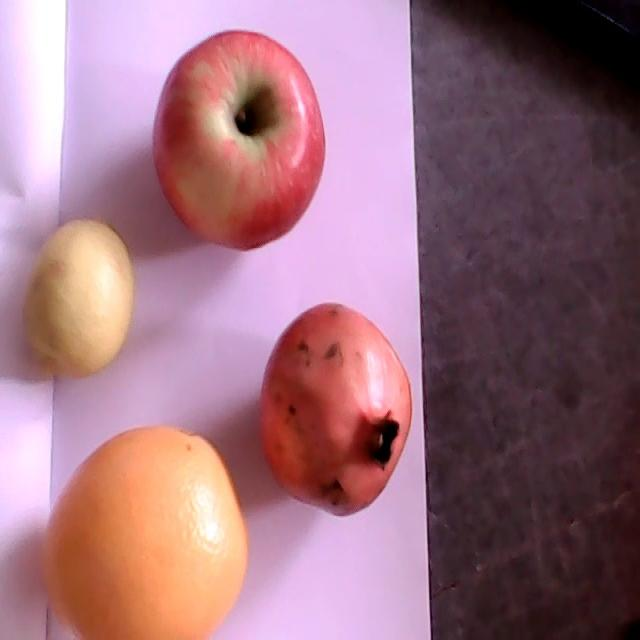apple: (152, 29, 324, 253)
lemon: (20, 218, 133, 380)
orange: (41, 423, 250, 637)
pomegranate: (257, 302, 414, 518)
